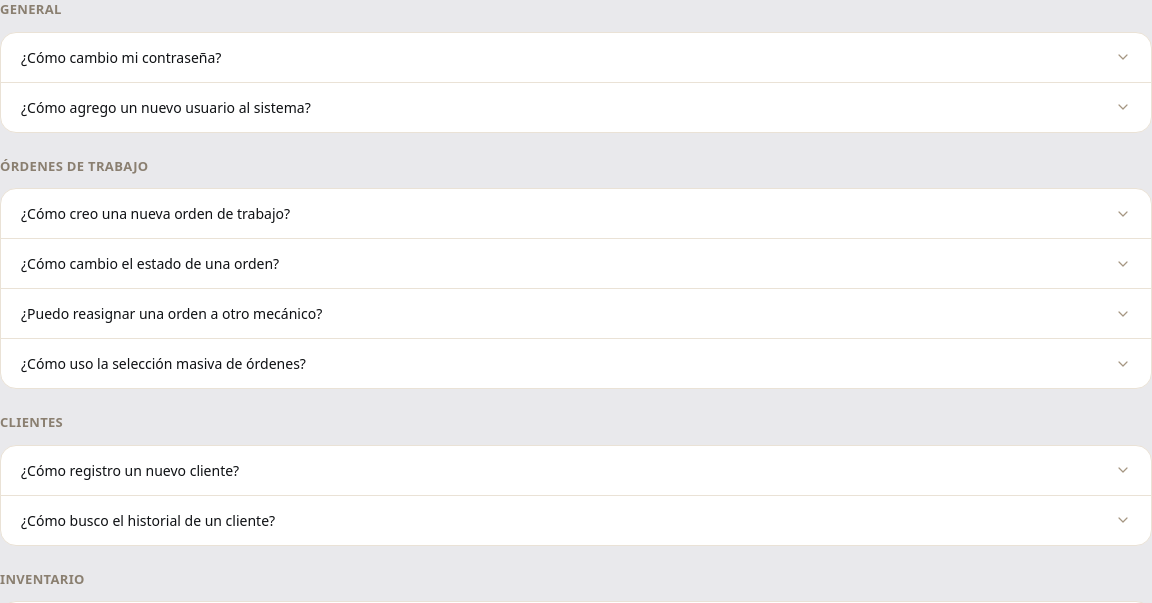
Scenario: FaqAccordion › clicking an open question hides the answer
Click the button "¿Cómo cambio mi contraseña?" at coordinates (121, 57), box [1,32,1151,82]
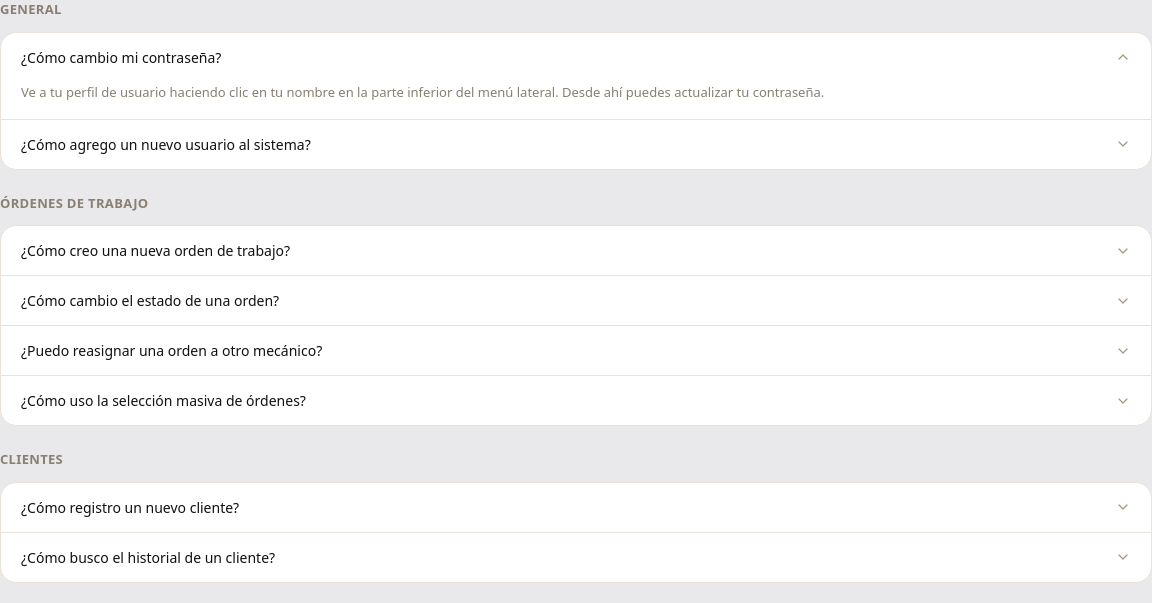
Click the button "¿Cómo cambio mi contraseña?" at coordinates (121, 57), box [1,32,1151,82]
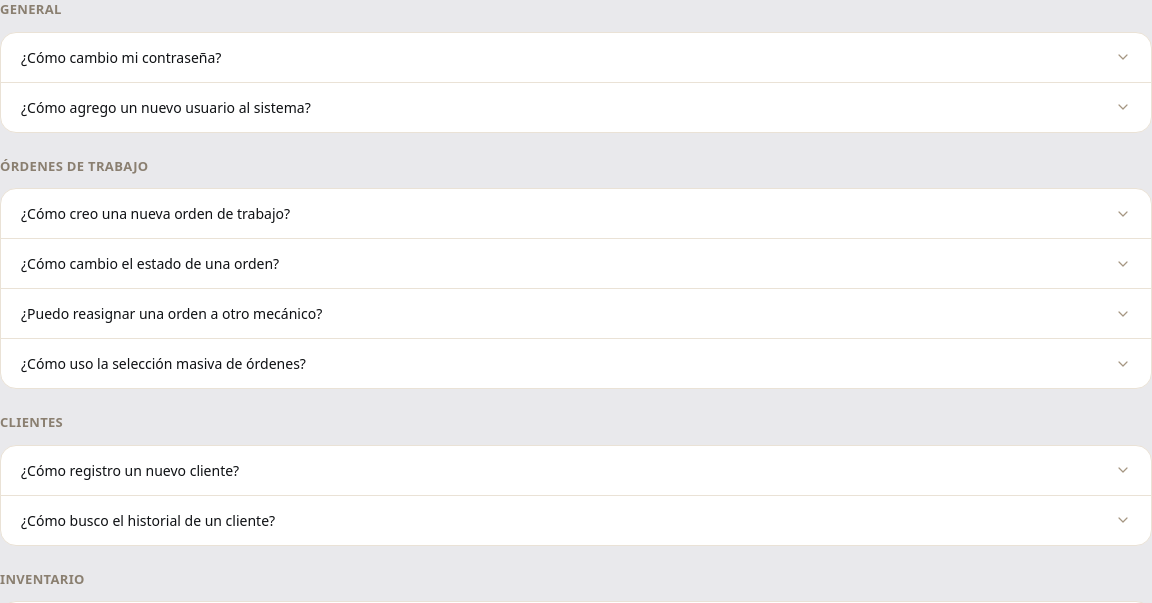
Check: the text "perfil de usuario" is gone
